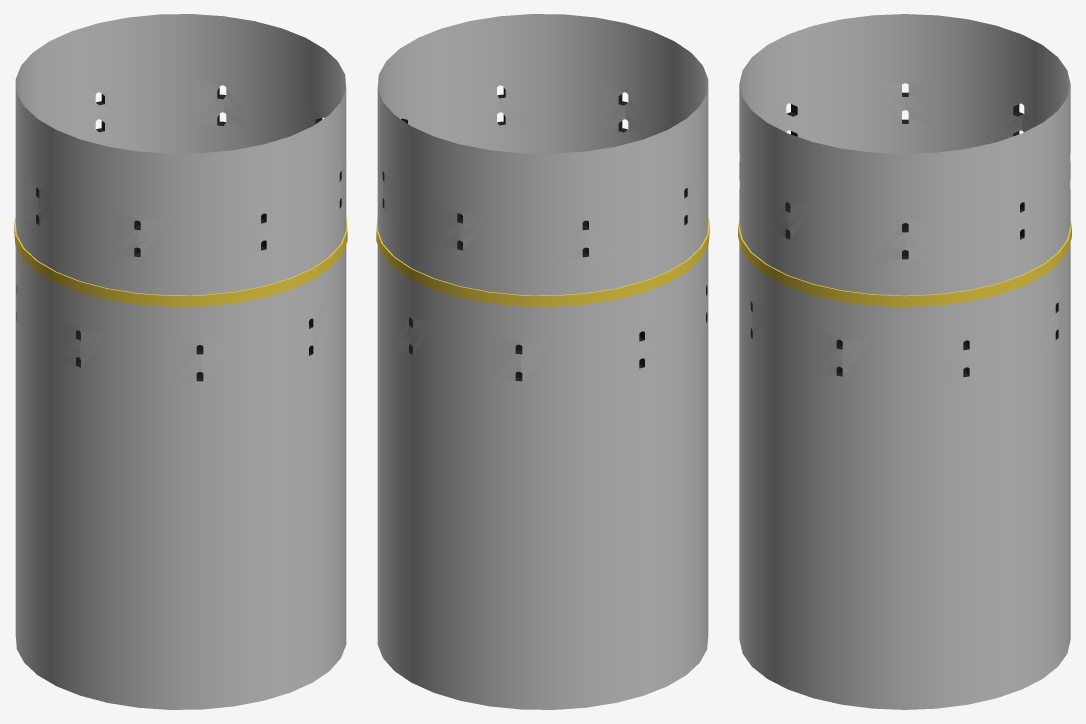
Rendered from building_withoutplatform_01.fbx.
3 views of the same model, side by side, from view 1: azimuth 30°, elevation 25°; view 2: azimuth 150°, elevation 25°; view 3: azimuth 270°, elevation 25° (orthographic).
Visible parts, largest first — view 1: building_without platform; view 2: building_without platform; view 3: building_without platform.
Boxes of the visible parts, x1,y1,x2,y2 form: building_without platform: [14, 14, 347, 709]; building_without platform: [376, 14, 709, 709]; building_without platform: [738, 14, 1071, 709].
Bounding box in the file's own units: 213 × 391 × 213.
